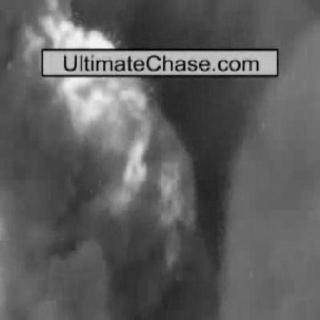Fire: (61, 73, 193, 249), (21, 5, 115, 48)
